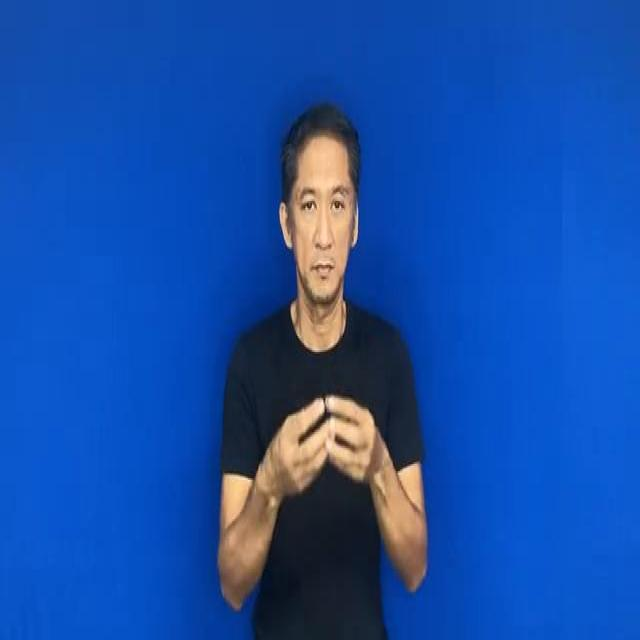egg: (252, 380, 396, 510)
